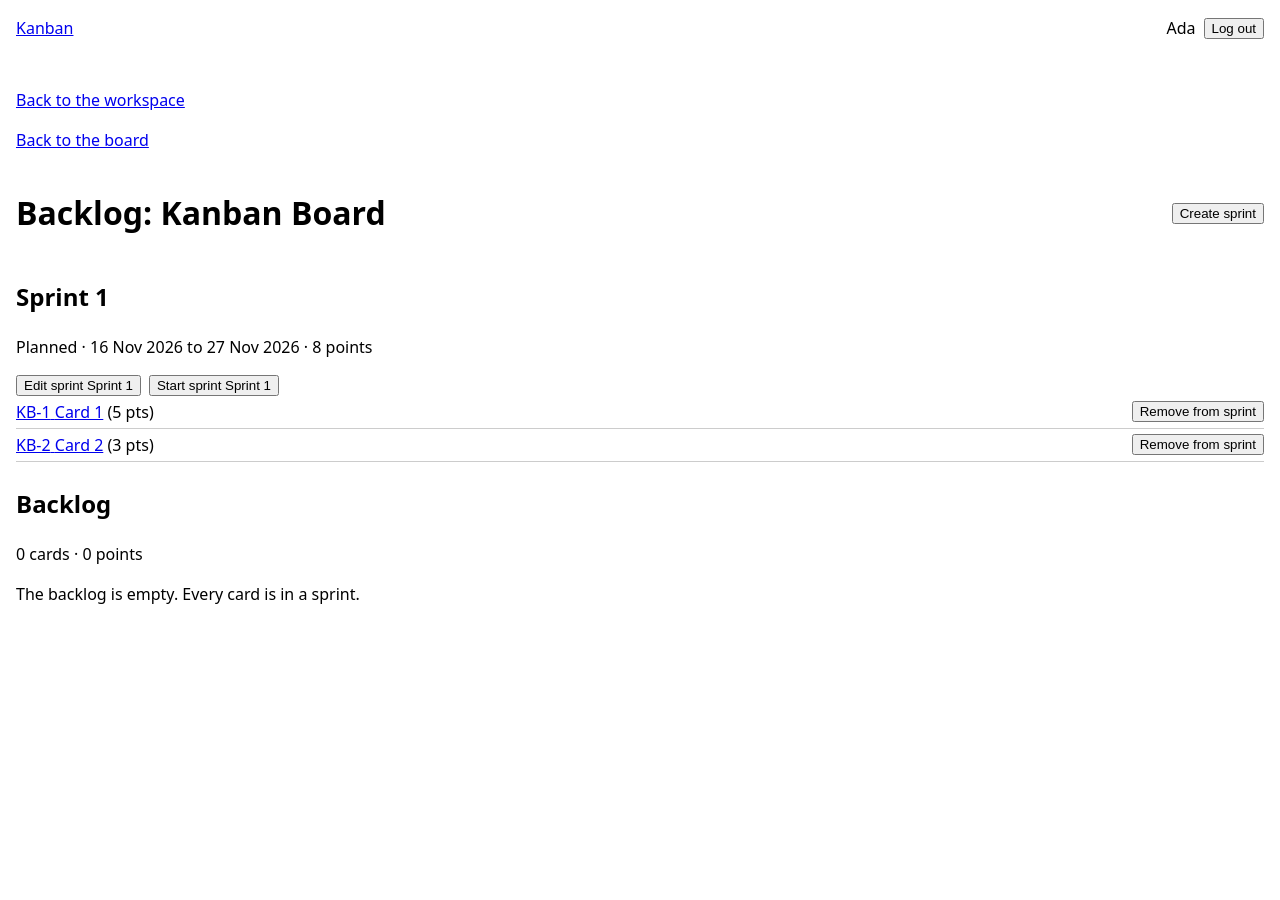
Test: backlog page › asks for confirmation before starting, then shows the sprint as active
Click the button "Start sprint Sprint 1".
click(214, 385)  # box 149,375 -> 279,396
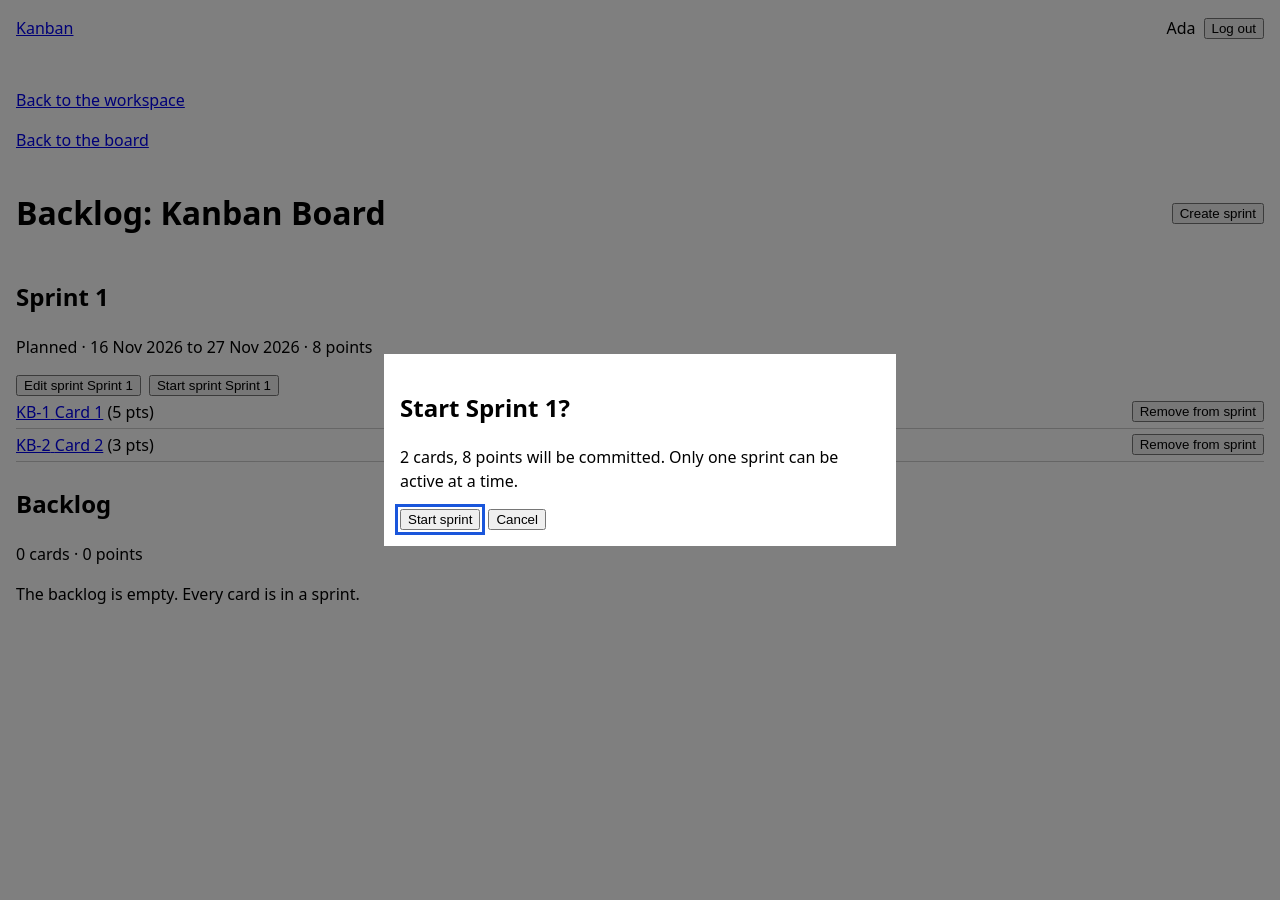
Now the text "2 cards, 8 points will be committed" is shown, box 400,445 -> 880,493
Click the button "Start sprint".
click(440, 520)  # box 400,509 -> 480,530
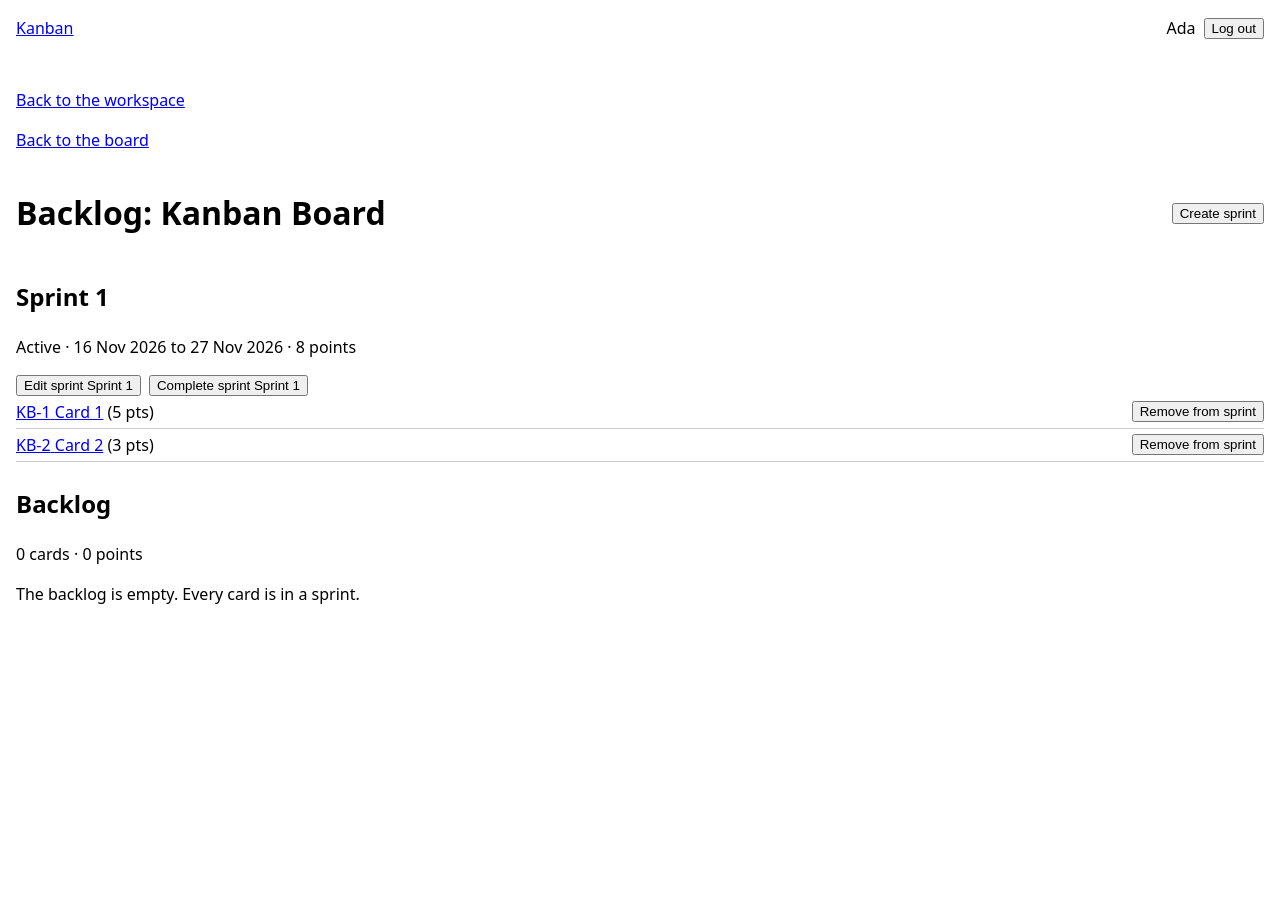
Now the dialog is gone
Now the text "Active · 16 Nov 2026 to 27 Nov 2026 · 8 points" is shown, box 16,336 -> 356,358
